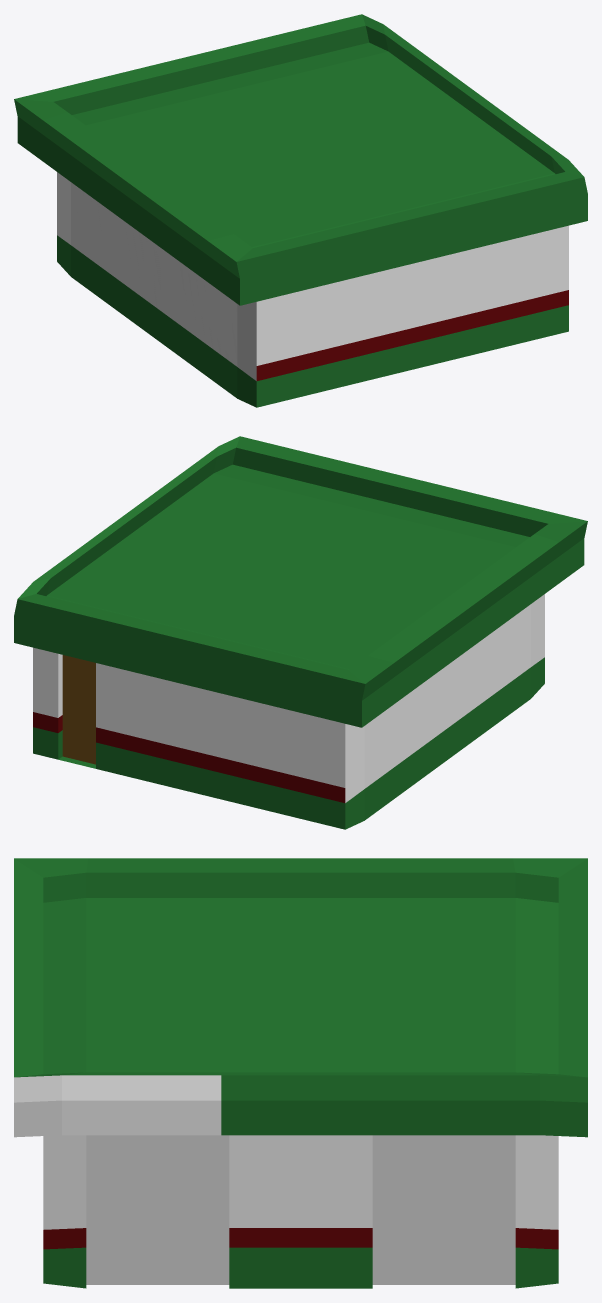
Rendered from Establecimiento.fbx.
3 renders of one model, top to bottom at view 1: azimuth 30°, elevation 25°; view 2: azimuth 150°, elevation 25°; view 3: azimuth 270°, elevation 25°, orthographic. The views are drawn at different scales.
Visible parts, largest first — view 1: Establecimiento; view 2: Establecimiento; view 3: Establecimiento.
Part boxes in pixels (x1,y1,x2,y2): Establecimiento: [14, 14, 587, 407]; Establecimiento: [14, 436, 587, 829]; Establecimiento: [14, 858, 587, 1288].
Bounding box in the file's own units: 23.37 × 10.55 × 25.42.
